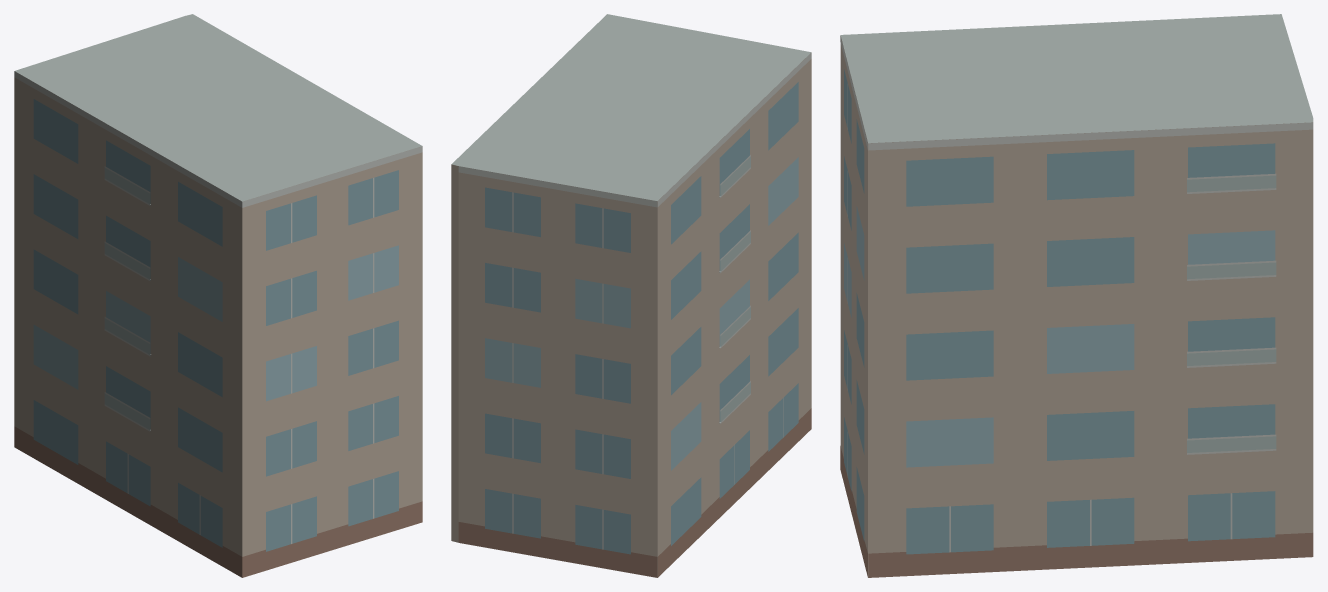
File: survey-upis-32886867.glb
The picture shows the model from 3 angles, left to right: view 1: azimuth 30°, elevation 25°; view 2: azimuth 150°, elevation 25°; view 3: azimuth 270°, elevation 25°; orthographic projection. The views are drawn at different scales.
Visible parts, largest first — view 1: survey-upis-32886867.tmp; view 2: survey-upis-32886867.tmp; view 3: survey-upis-32886867.tmp.
Boxes of the visible parts, left/top/right/bottom form: survey-upis-32886867.tmp: left=14, top=14, right=422, bottom=577; survey-upis-32886867.tmp: left=451, top=14, right=811, bottom=577; survey-upis-32886867.tmp: left=840, top=14, right=1313, bottom=577.
Bounding box in the file's own units: 9.32 × 14.6 × 14.41.
